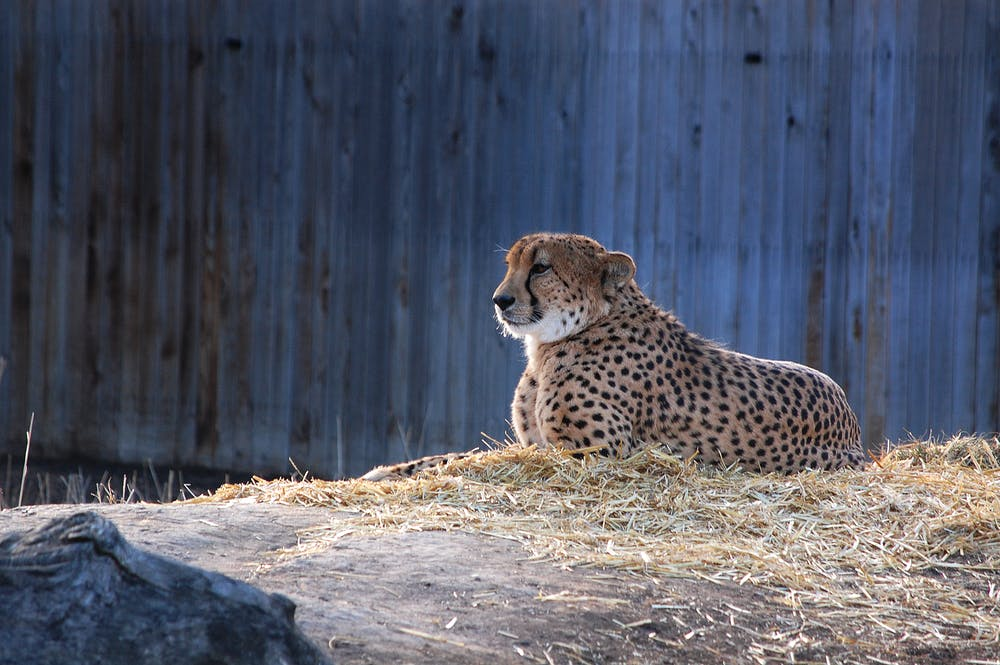cheetah: (477, 221, 647, 353)
